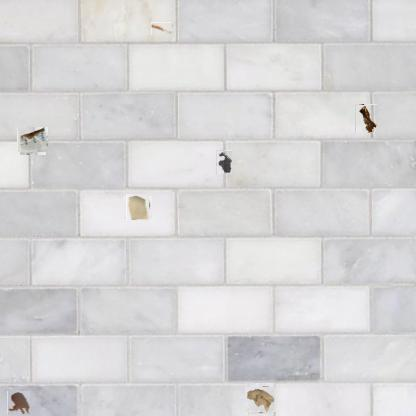dirty: (246, 385, 276, 414), (19, 125, 47, 154), (125, 195, 151, 220), (355, 104, 377, 132), (151, 22, 172, 35)
liquid: (7, 392, 31, 415), (216, 150, 233, 174)
